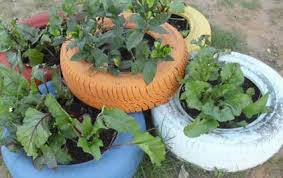tire: (153, 47, 283, 174), (1, 79, 149, 178), (59, 13, 189, 113), (111, 1, 214, 68)
